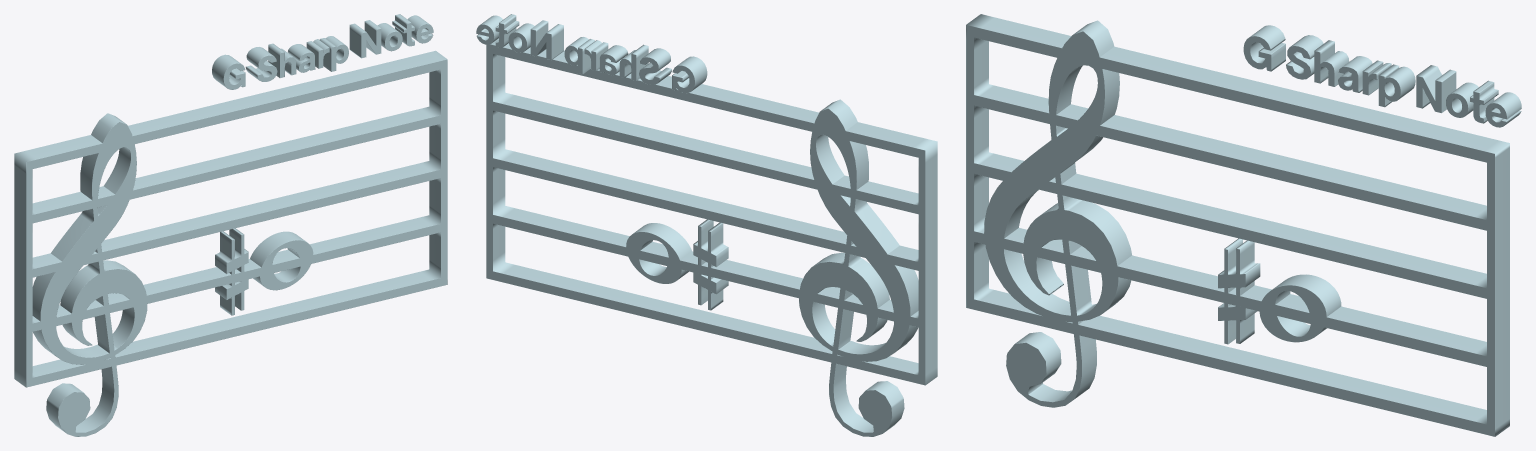
Rendered from GSharpNote.fbx.
3 views of the same model, side by side, from view 1: azimuth 30°, elevation 25°; view 2: azimuth 150°, elevation 25°; view 3: azimuth 330°, elevation 25° (orthographic). The views are drawn at different scales.
Visible parts, largest first — view 1: bevelPolygon1, bevelPolygon3, bevelPolygon2, bevelPolygon4, bevelPolygon11, bevelPolygon5, bevelPolygon6, bevelPolygon10, bevelPolygon7, bevelPolygon8, bevelPolygon12, bevelPolygon14 (+1 smaller); view 2: bevelPolygon1, bevelPolygon3, bevelPolygon2, bevelPolygon4, bevelPolygon11, bevelPolygon5, bevelPolygon6, bevelPolygon10, bevelPolygon7, bevelPolygon8, bevelPolygon12, bevelPolygon14 (+1 smaller); view 3: bevelPolygon1, bevelPolygon3, bevelPolygon2, bevelPolygon4, bevelPolygon5, bevelPolygon11, bevelPolygon10, bevelPolygon7, bevelPolygon6, bevelPolygon14, bevelPolygon8, bevelPolygon12 (+2 smaller).
Part boxes in pixels (box(x1,y1,x2,y2)): bevelPolygon1: box(14, 50, 447, 387); bevelPolygon3: box(32, 113, 147, 436); bevelPolygon2: box(250, 231, 313, 290); bevelPolygon4: box(215, 228, 248, 315); bevelPolygon11: box(349, 20, 381, 58); bevelPolygon5: box(212, 54, 245, 89); bevelPolygon6: box(245, 47, 277, 81); bevelPolygon10: box(319, 36, 348, 71); bevelPolygon7: box(268, 43, 296, 77); bevelPolygon8: box(287, 44, 315, 72); bevelPolygon12: box(377, 23, 402, 51); bevelPolygon14: box(408, 15, 433, 43); bevelPolygon1: box(486, 38, 937, 385); bevelPolygon3: box(799, 99, 918, 436); bevelPolygon2: box(626, 223, 692, 283); bevelPolygon4: box(693, 219, 728, 310); bevelPolygon11: box(530, 20, 563, 60); bevelPolygon5: box(672, 56, 707, 93); bevelPolygon6: box(639, 48, 671, 84); bevelPolygon10: box(564, 37, 594, 74); bevelPolygon7: box(619, 44, 648, 80); bevelPolygon8: box(599, 45, 628, 75); bevelPolygon12: box(508, 23, 534, 52); bevelPolygon14: box(476, 15, 503, 44); bevelPolygon1: box(966, 14, 1509, 436); bevelPolygon3: box(984, 20, 1131, 407); bevelPolygon2: box(1259, 274, 1341, 342); bevelPolygon4: box(1218, 238, 1260, 344); bevelPolygon5: box(1243, 25, 1285, 71); bevelPolygon11: box(1416, 65, 1456, 113); bevelPolygon10: box(1378, 64, 1415, 107); bevelPolygon7: box(1314, 40, 1349, 86); bevelPolygon6: box(1286, 35, 1323, 79); bevelPolygon14: box(1485, 92, 1521, 127); bevelPolygon8: box(1338, 56, 1372, 92); bevelPolygon12: box(1446, 82, 1478, 117).
Bounding box in the file's own units: 16.18 × 11.93 × 1.56.
